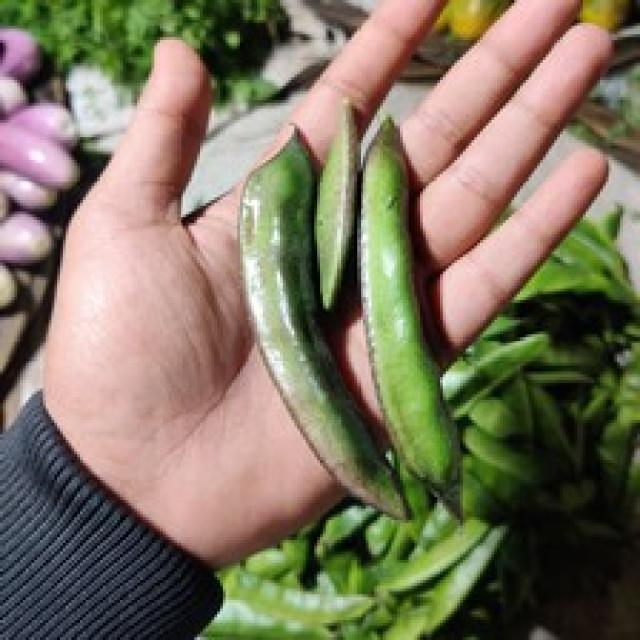Bean: (237, 120, 409, 520), (354, 112, 463, 517)
